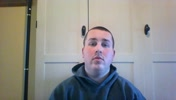hand: (37, 32, 100, 99)
